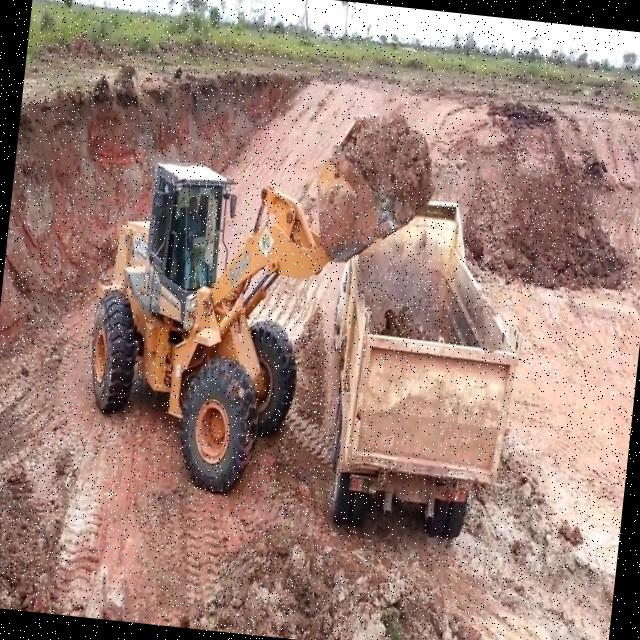Dump Truck: (312, 188, 535, 545)
Loader: (75, 81, 438, 510)
